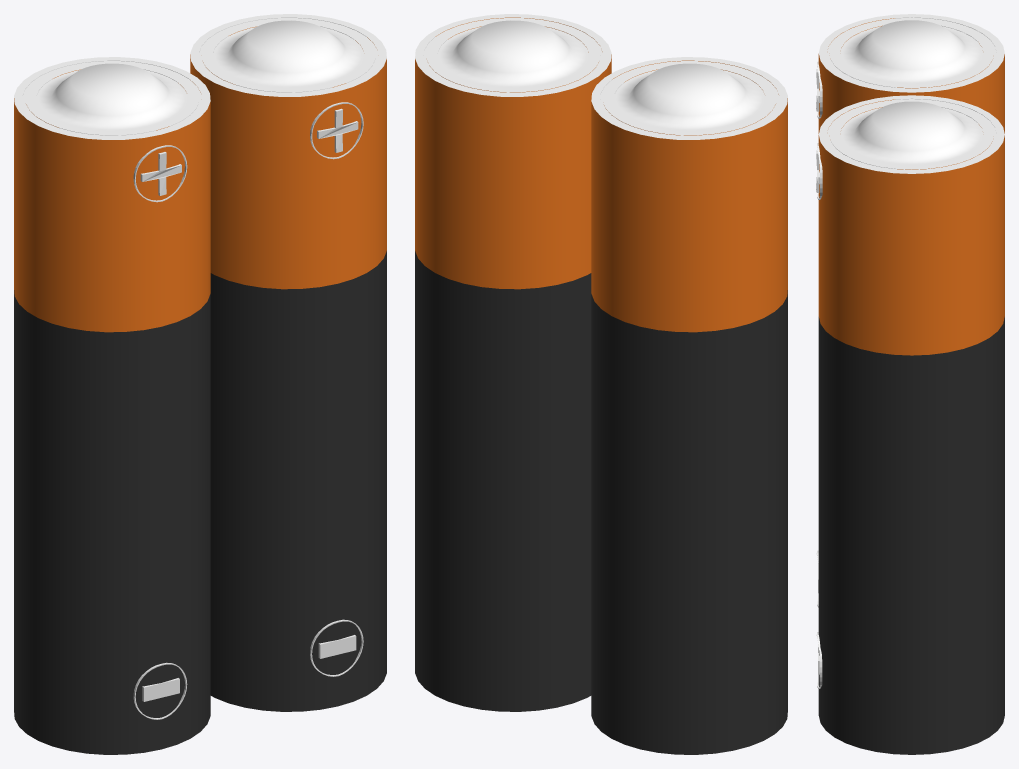
Rendered from Batteries.fbx.
3 views of the same model, side by side, from view 1: azimuth 30°, elevation 25°; view 2: azimuth 150°, elevation 25°; view 3: azimuth 270°, elevation 25° (orthographic). The views are drawn at different scales.
Parts seen in each view (by area): view 1: Cylinder.001; view 2: Cylinder.001; view 3: Cylinder.001.
Part boxes in pixels (x1,y1,x2,y2): Cylinder.001: [14, 14, 386, 754]; Cylinder.001: [415, 14, 787, 754]; Cylinder.001: [816, 14, 1004, 754].
Size of the model in its own units: 0.2397 by 0.4174 by 0.1196.
